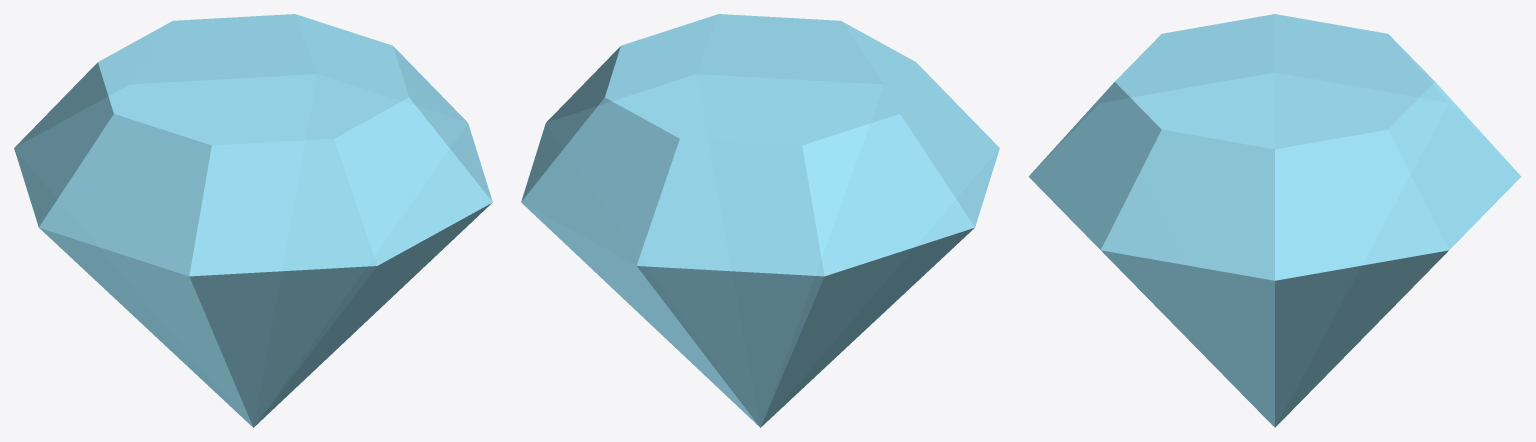
Rendered from diamond.glb.
The picture shows the model from 3 angles, left to right: view 1: azimuth 30°, elevation 25°; view 2: azimuth 150°, elevation 25°; view 3: azimuth 270°, elevation 25°; orthographic projection.
Visible parts, largest first — view 1: diamond; view 2: diamond; view 3: diamond.
Part boxes in pixels (x1,y1,x2,y2): diamond: (14, 14, 492, 427); diamond: (521, 14, 999, 427); diamond: (1028, 14, 1521, 427).
Bounding box in the file's own units: 0.08 × 0.062 × 0.08.
